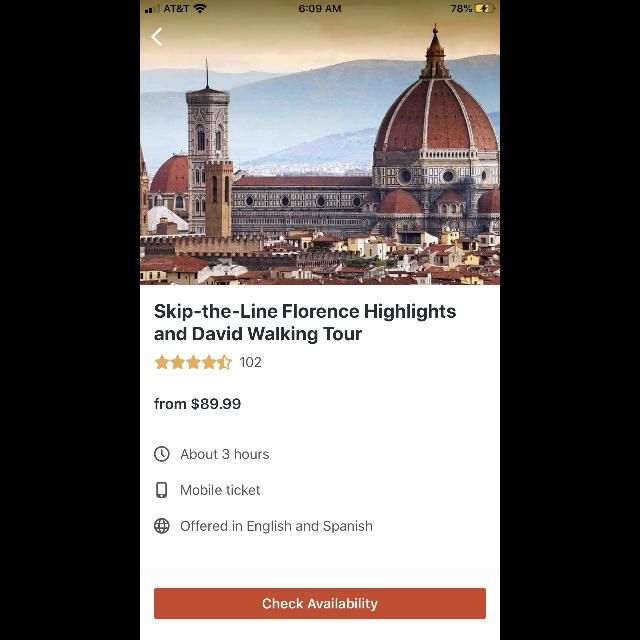icon: (154, 354, 232, 371), (154, 446, 170, 462), (152, 28, 162, 46)
image: (140, 1, 500, 286), (154, 518, 170, 534), (156, 482, 168, 498)
text: (154, 304, 456, 344), (182, 520, 372, 534), (154, 398, 242, 410), (181, 448, 269, 459), (182, 484, 260, 496), (240, 357, 262, 368)
textbutton: (154, 588, 486, 620)
uppertaskbar: (140, 1, 500, 15)
